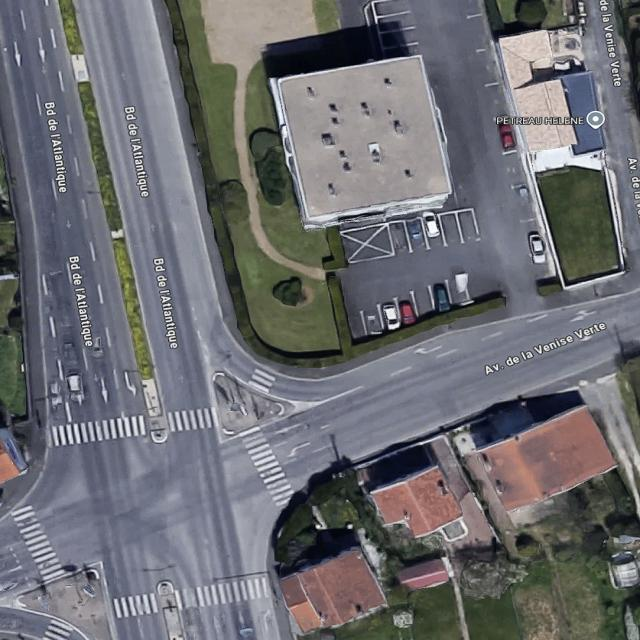immeuble: (269, 46, 459, 235)
maison: (475, 398, 616, 518), (275, 542, 388, 640), (369, 459, 465, 549), (515, 79, 577, 153)
